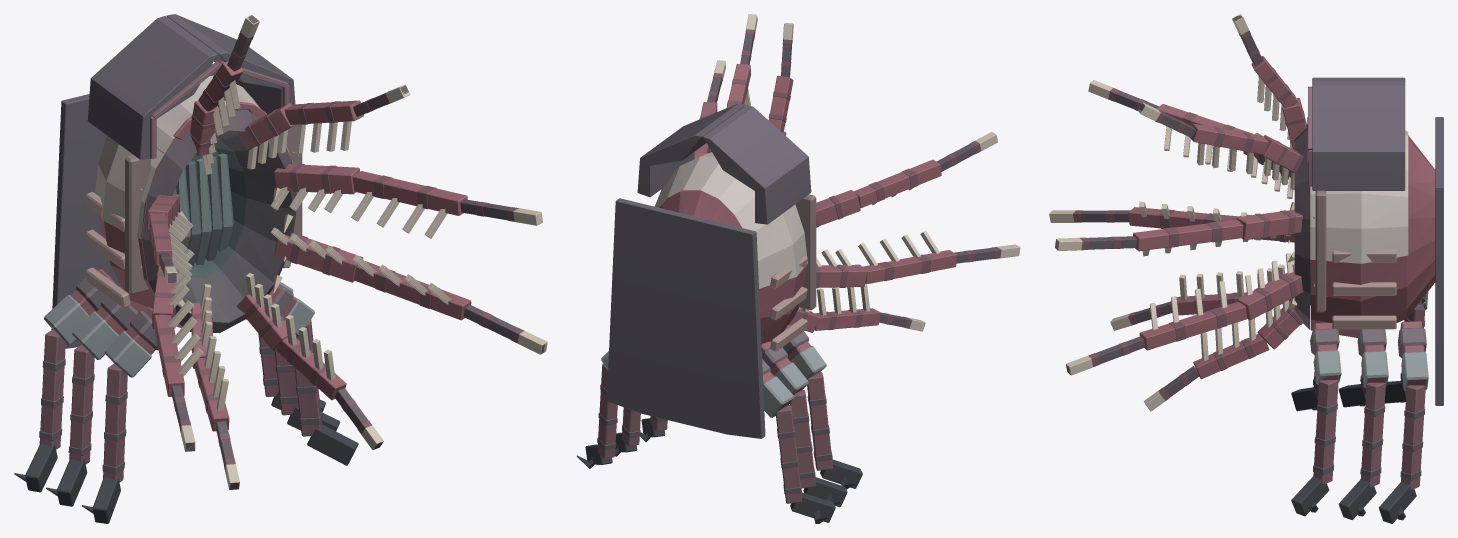
File: AdaptedVisceraAssassin.glb
3 views of the same model, side by side, from view 1: azimuth 30°, elevation 25°; view 2: azimuth 150°, elevation 25°; view 3: azimuth 270°, elevation 25° (orthographic). The views are drawn at different scales.
Visible parts, largest first — view 1: Body, LegR, ArmR, ArmL, LegL; view 2: Body, ArmR, LegR, LegL, ArmL; view 3: Body, LegL, ArmL, LegR, ArmR.
Part boxes in pixels (x1,y1,x2,y2): Body: (46,14,547,506); LegR: (14,269,115,492); ArmR: (82,307,158,523); ArmL: (268,284,358,465); LegL: (258,335,325,412); Body: (606,14,1020,507); ArmR: (782,323,862,489); LegR: (762,359,835,523); LegL: (576,351,617,468); ArmL: (640,416,667,441); Body: (1049,14,1443,519); LegL: (1379,321,1428,523); ArmL: (1291,322,1341,516); LegR: (1384,292,1428,403); ArmR: (1291,371,1318,411).
Bounding box in the file's own units: 8.02 × 10.39 × 8.4.
